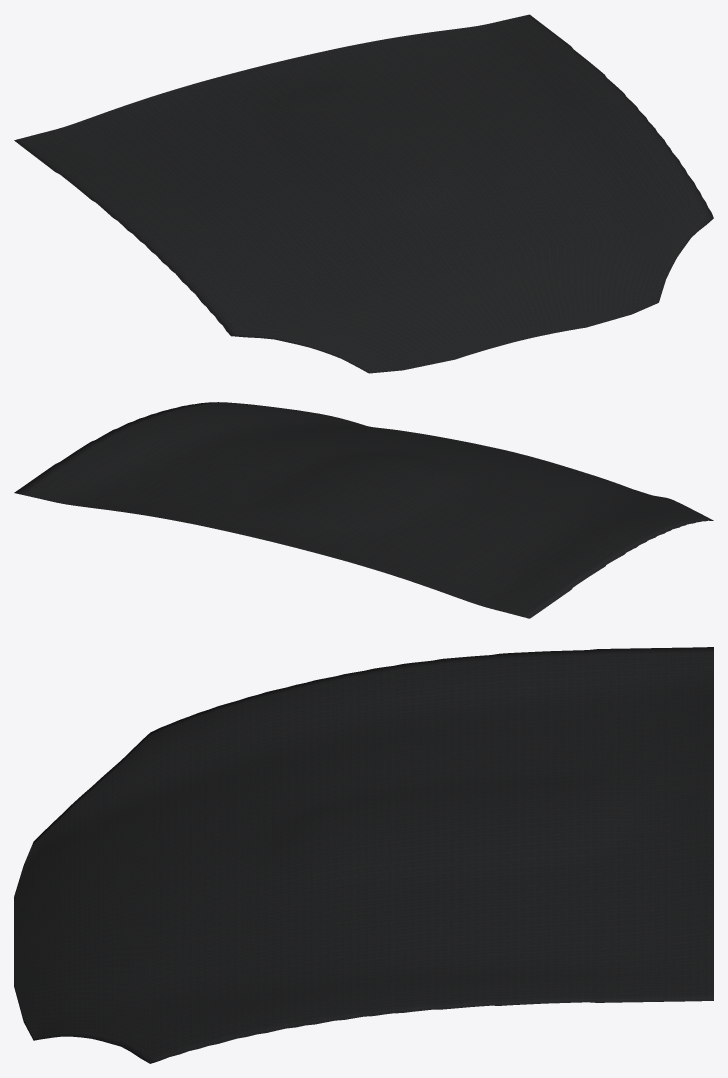
The model's file is DT78_bonnet_wrap_carbon.glb.
3 renders of one model, top to bottom at view 1: azimuth 30°, elevation 25°; view 2: azimuth 150°, elevation 25°; view 3: azimuth 270°, elevation 25°, orthographic. The views are drawn at different scales.
Visible parts, largest first — view 1: MOD_NB_DT78_wrap; view 2: MOD_NB_DT78_wrap; view 3: MOD_NB_DT78_wrap.
Boxes of the visible parts, left/top/right/bottom form: MOD_NB_DT78_wrap: left=14, top=14, right=713, bottom=373; MOD_NB_DT78_wrap: left=14, top=402, right=713, bottom=618; MOD_NB_DT78_wrap: left=14, top=647, right=713, bottom=1063.
Bounding box in the file's own units: 1.32 × 0.2423 × 1.1.
1 material, 1 textured.
